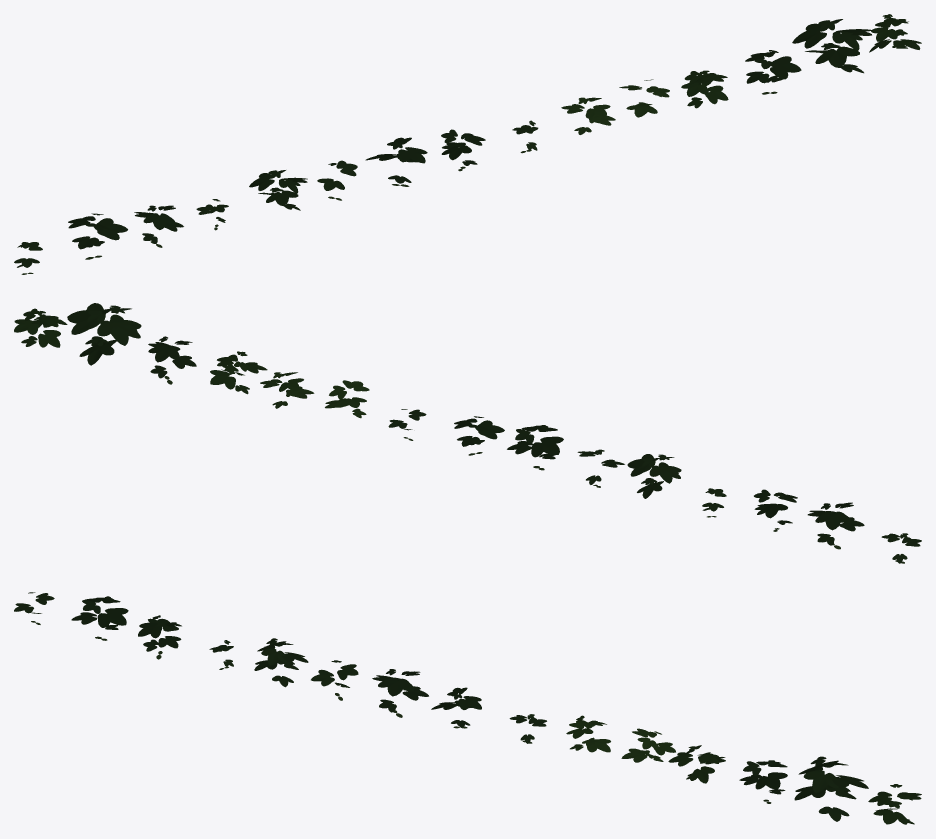
File: ROW_08_SEG1_foliage.dae
The picture shows the model from 3 angles, top to bottom: view 1: azimuth 30°, elevation 25°; view 2: azimuth 150°, elevation 25°; view 3: azimuth 330°, elevation 25°; orthographic projection.
Visible parts, largest first — view 1: ROW_08_SEG1_foliage; view 2: ROW_08_SEG1_foliage; view 3: ROW_08_SEG1_foliage.
Part boxes in pixels (x1,y1,x2,y2): ROW_08_SEG1_foliage: (14,14,921,274); ROW_08_SEG1_foliage: (14,303,921,563); ROW_08_SEG1_foliage: (14,592,921,824).
Bounding box in the file's own units: 4.47 × 0.3374 × 0.2899.
